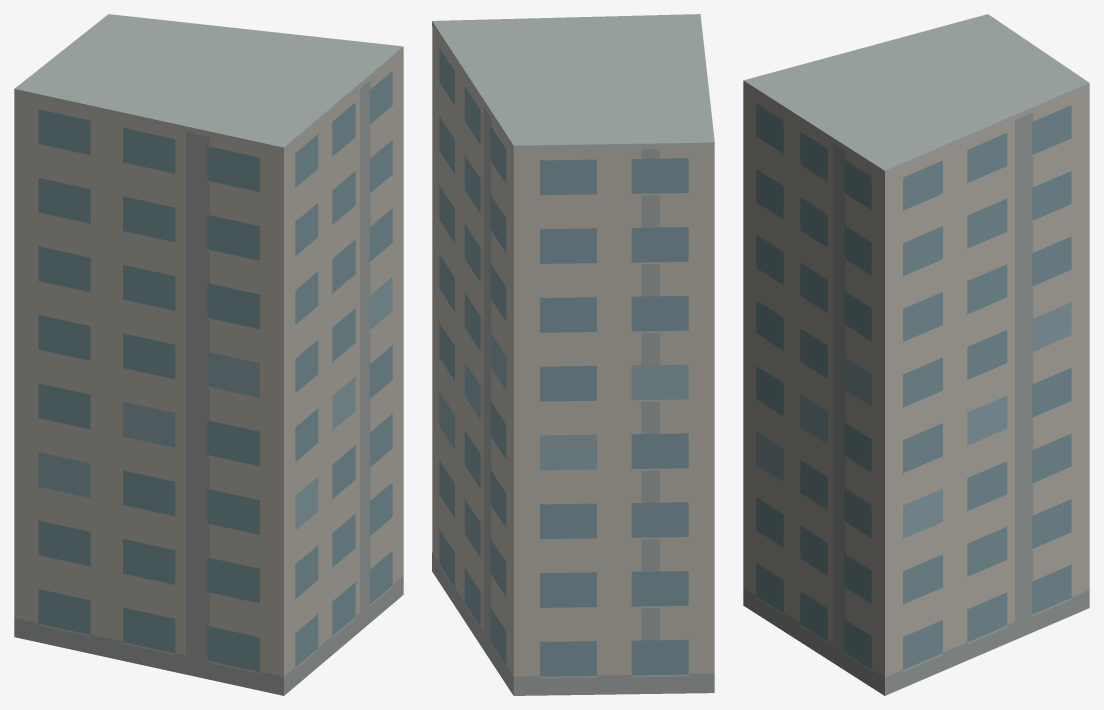
File: survey-upis-32820167.glb
The picture shows the model from 3 angles, left to right: view 1: azimuth 30°, elevation 25°; view 2: azimuth 150°, elevation 25°; view 3: azimuth 270°, elevation 25°; orthographic projection. The views are drawn at different scales.
Parts seen in each view (by area): view 1: survey-upis-32820167.tmp; view 2: survey-upis-32820167.tmp; view 3: survey-upis-32820167.tmp.
Part boxes in pixels (box(x1,y1,x2,y2)): survey-upis-32820167.tmp: box(14, 14, 403, 695); survey-upis-32820167.tmp: box(432, 14, 714, 695); survey-upis-32820167.tmp: box(743, 14, 1089, 695).
Size of the model in its own units: 15.34 by 23.95 by 14.32.
